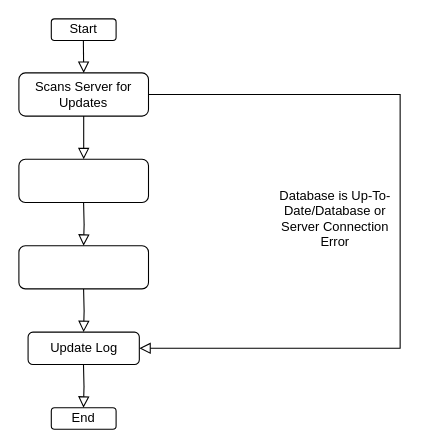
The diagram is 430 pixels wide and 448 high, and some of its shapes have lost their labels. The shapes that lost their labels are listed below. From the top down, each one's centre as x and y in pixels, then its label:
At point 83,180: "Process and Convert Raw Data".
At point 83,267: "Write to Postgres".
